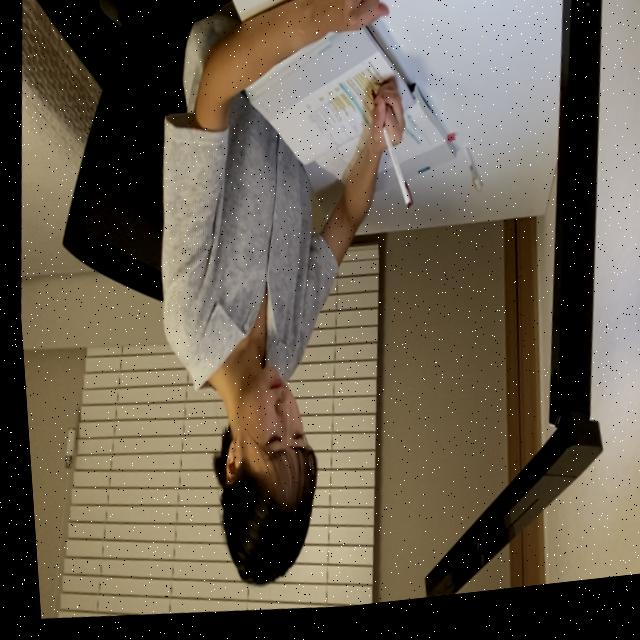studying-person: (111, 0, 492, 622)
